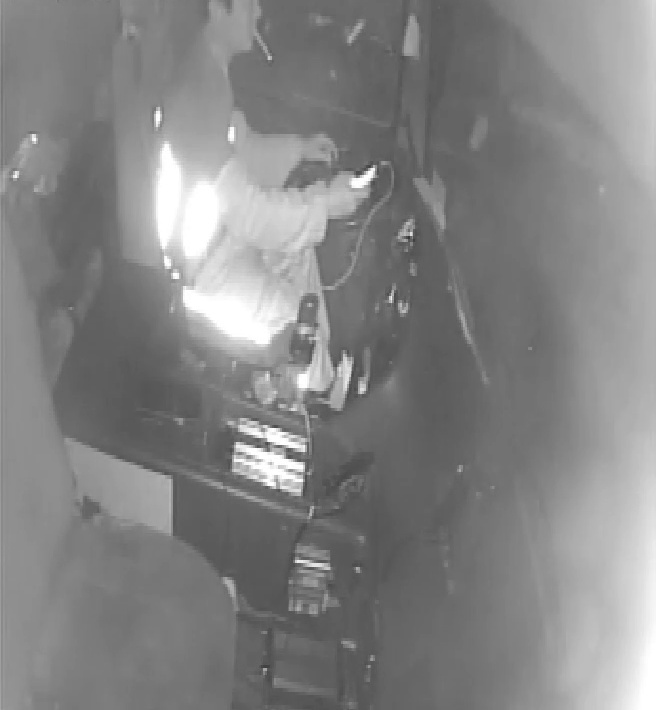cellphone: (339, 161, 380, 194)
